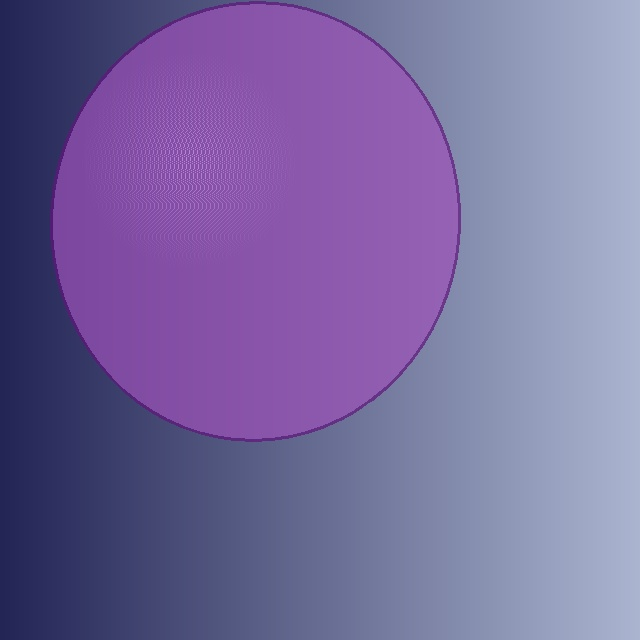lens: (52, 3, 458, 439)
